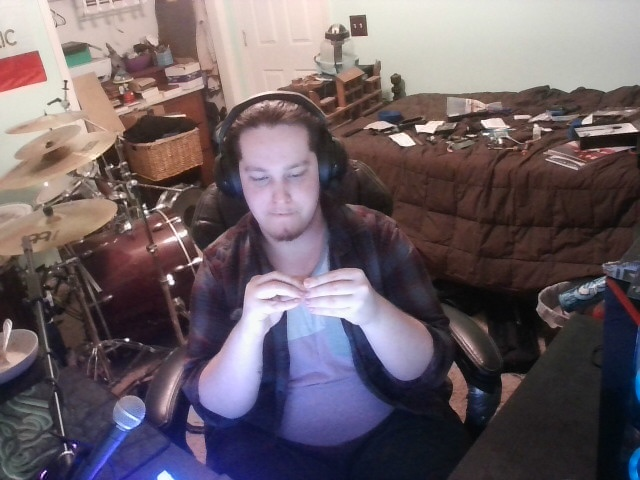more: (226, 257, 386, 343)
